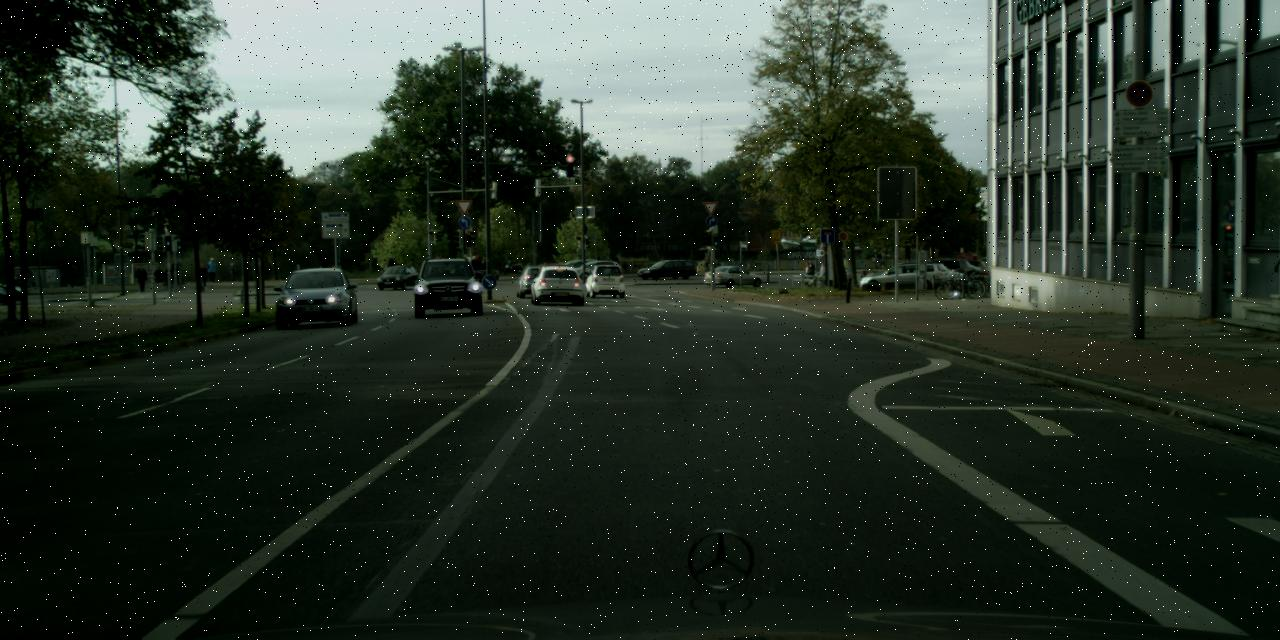ped: (470, 255, 485, 293), (467, 255, 482, 292), (135, 264, 146, 292), (805, 259, 815, 285), (206, 257, 216, 281), (802, 262, 811, 284), (197, 262, 206, 284), (156, 268, 167, 286), (227, 262, 235, 280), (171, 265, 174, 284), (177, 263, 179, 281)
